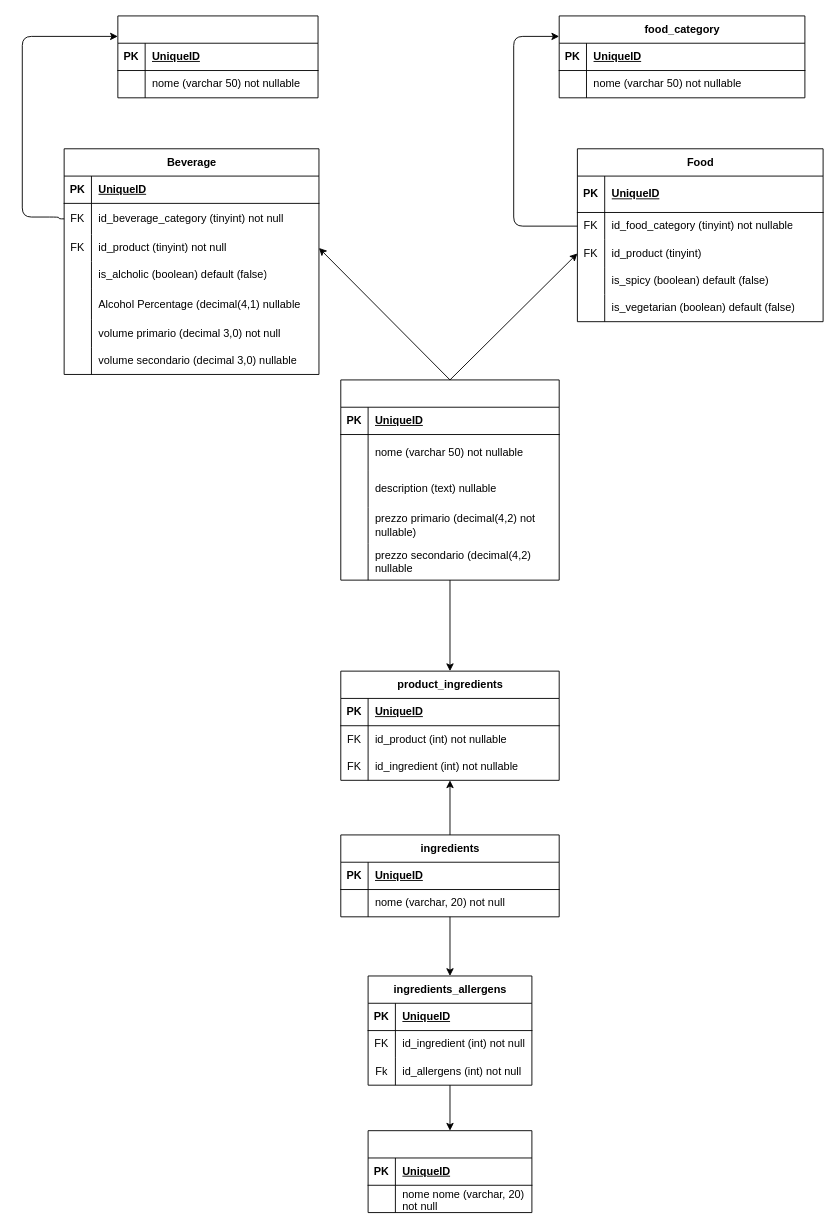
Some shapes in this 839 by 1229 pixel diagram are drawn without their labels. The box of each missing label's shape, as (x1, y1, x2, y2) in pixels:
Allergens: (367, 1130, 532, 1213)
Beverage_category: (117, 15, 318, 98)
Products: (340, 379, 559, 580)
